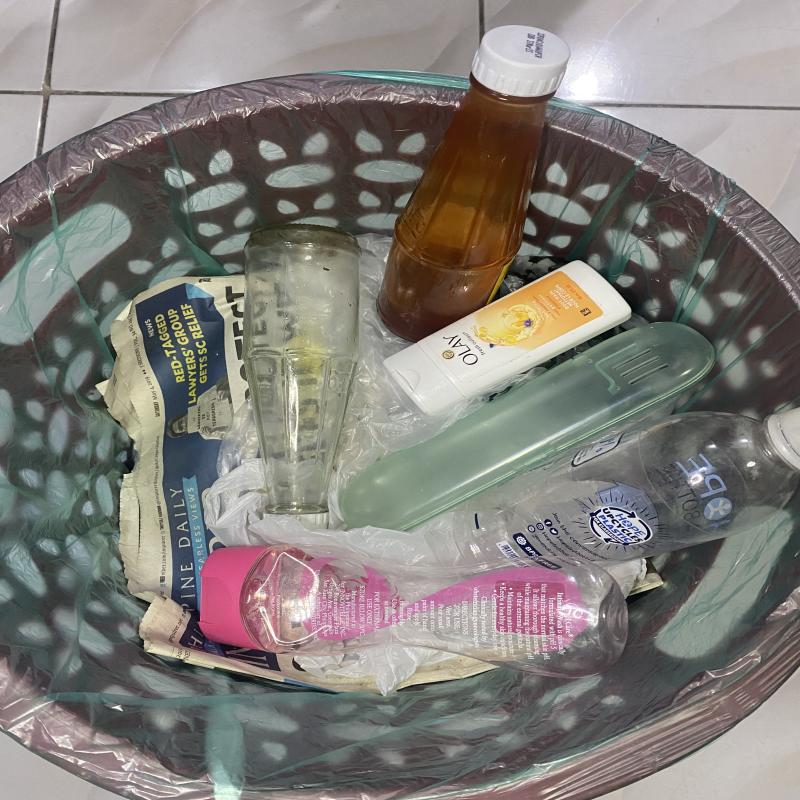glass bottle: (375, 25, 570, 344), (244, 224, 360, 529)
paper: (96, 274, 381, 694)
plastic bottle: (198, 544, 629, 679), (453, 407, 800, 567), (383, 260, 632, 416)
plastic container: (338, 322, 717, 533)
